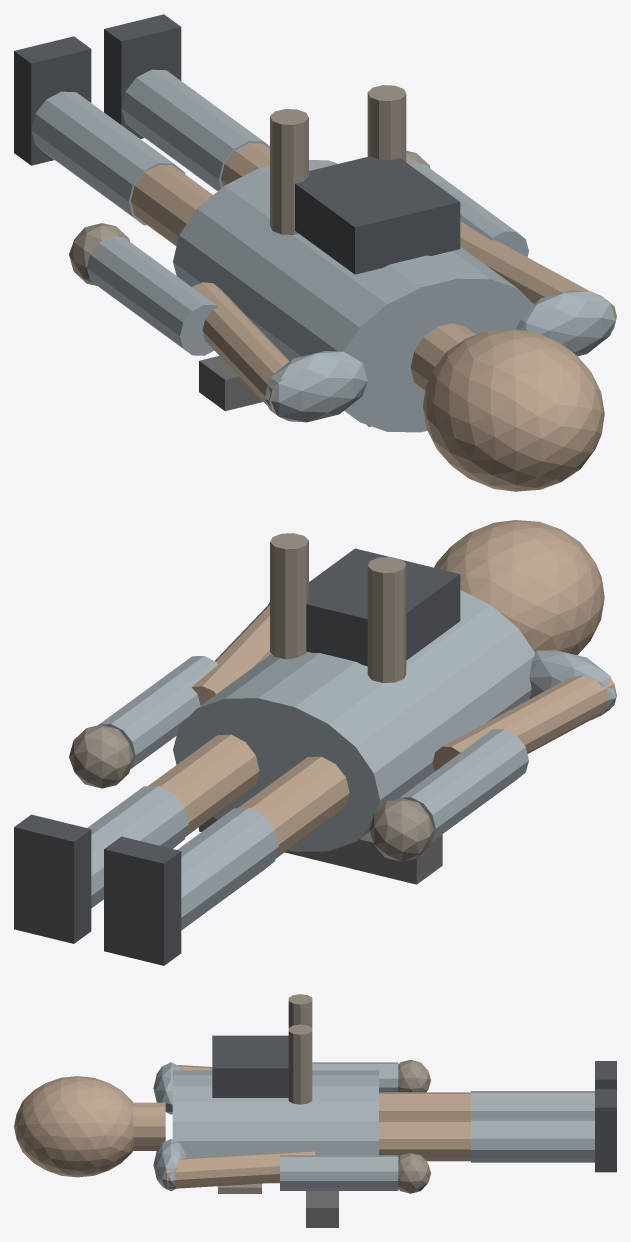
File: SWN-004_orren_pike.glb
3 views of the same model, one above another, from view 1: azimuth 30°, elevation 25°; view 2: azimuth 150°, elevation 25°; view 3: azimuth 270°, elevation 25° (orthographic). The views are drawn at different scales.
Parts seen in each view (by area): view 1: body_spine, head, back_thruster_pack, greave_-1, greave_1, forearm_gauntlet_-1, boot_-1, shoulder_plate_-1, boot_1, upper_arm_-1, shoulder_plate_1, aether_thruster_-1 (+8 smaller); view 2: body_spine, head, back_thruster_pack, boot_1, boot_-1, greave_-1, forearm_gauntlet_-1, upper_arm_-1, thigh_-1, thigh_1, forearm_gauntlet_1, greave_1 (+7 smaller); view 3: body_spine, head, greave_1, back_thruster_pack, forearm_gauntlet_1, thigh_1, upper_arm_1, greave_-1, thigh_-1, aether_thruster_1, boot_1, neck (+9 smaller).
Boxes of the visible parts, x1=… form: body_spine: x1=173, y1=160, x2=534, y2=432; head: x1=423, y1=329, x2=604, y2=491; back_thruster_pack: x1=295, y1=156, x2=460, y2=274; greave_-1: x1=31, y1=91, x2=185, y2=225; greave_1: x1=121, y1=69, x2=269, y2=191; forearm_gauntlet_-1: x1=87, y1=236, x2=217, y2=355; boot_-1: x1=14, y1=36, x2=91, y2=165; shoulder_plate_-1: x1=264, y1=351, x2=368, y2=422; boot_1: x1=104, y1=14, x2=181, y2=138; upper_arm_-1: x1=192, y1=282, x2=289, y2=418; shoulder_plate_1: x1=516, y1=290, x2=615, y2=356; aether_thruster_-1: x1=270, y1=109, x2=308, y2=234; body_spine: x1=173, y1=590, x2=534, y2=851; head: x1=434, y1=520, x2=604, y2=655; back_thruster_pack: x1=306, y1=548, x2=460, y2=666; boot_1: x1=14, y1=814, x2=91, y2=943; boot_-1: x1=104, y1=836, x2=181, y2=965; greave_-1: x1=177, y1=807, x2=278, y2=930; forearm_gauntlet_-1: x1=398, y1=729, x2=528, y2=842; upper_arm_-1: x1=432, y1=671, x2=616, y2=771; thigh_-1: x1=238, y1=756, x2=349, y2=858; thigh_1: x1=148, y1=734, x2=259, y2=836; forearm_gauntlet_1: x1=98, y1=656, x2=217, y2=769; greave_1: x1=87, y1=786, x2=188, y2=908; body_spine: x1=172, y1=1070, x2=378, y2=1183; head: x1=14, y1=1076, x2=133, y2=1177; greave_1: x1=471, y1=1118, x2=594, y2=1162; back_thruster_pack: x1=212, y1=1035, x2=288, y2=1097; forearm_gauntlet_1: x1=280, y1=1155, x2=398, y2=1190; thigh_1: x1=379, y1=1120, x2=470, y2=1161; upper_arm_1: x1=165, y1=1150, x2=315, y2=1189; greave_-1: x1=471, y1=1091, x2=594, y2=1118; thigh_-1: x1=379, y1=1092, x2=470, y2=1119; aether_thruster_1: x1=288, y1=1024, x2=312, y2=1104; boot_1: x1=595, y1=1089, x2=616, y2=1172; neck: x1=132, y1=1102, x2=165, y2=1150.
Size of the model in its own units: 0.95 by 0.72 by 2.19.
